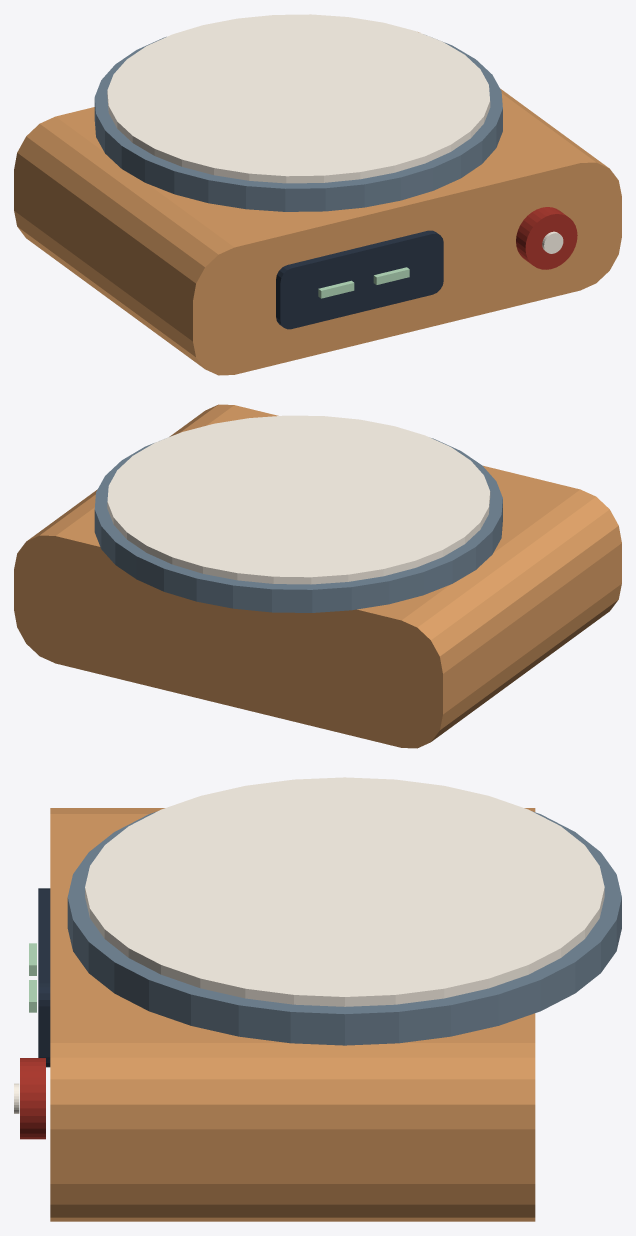
File: scale.glb
The picture shows the model from 3 angles, top to bottom: view 1: azimuth 30°, elevation 25°; view 2: azimuth 150°, elevation 25°; view 3: azimuth 270°, elevation 25°; orthographic projection. The views are drawn at different scales.
Parts seen in each view (by area): view 1: base, plate face, weighing plate, screen, tare key; view 2: base, plate face, weighing plate; view 3: base, plate face, weighing plate, screen, tare key.
Part boxes in pixels (left/top/right/bottom): base: left=14, top=32, right=621, bottom=375; plate face: left=107, top=14, right=490, bottom=183; weighing plate: left=94, top=35, right=502, bottom=211; screen: left=276, top=230, right=443, bottom=329; tare key: left=516, top=207, right=577, bottom=269; base: left=14, top=404, right=621, bottom=748; plate face: left=107, top=415, right=490, bottom=584; weighing plate: left=94, top=438, right=502, bottom=612; base: left=50, top=808, right=535, bottom=1221; plate face: left=85, top=777, right=604, bottom=1006; weighing plate: left=67, top=811, right=621, bottom=1045; screen: left=38, top=888, right=50, bottom=1067; tare key: left=20, top=1058, right=45, bottom=1139.
Bounding box in the file's own units: 1.55 × 0.545 × 1.4.
